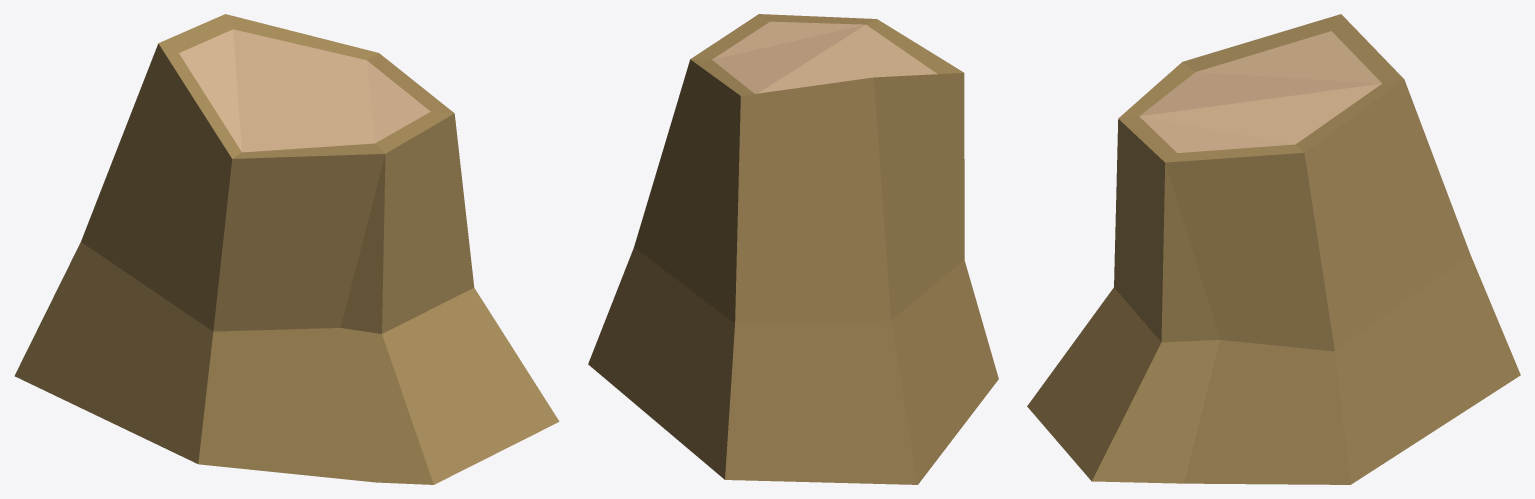
The model's file is Oak_Stump_04.fbx.
The picture shows the model from 3 angles, left to right: view 1: azimuth 30°, elevation 25°; view 2: azimuth 150°, elevation 25°; view 3: azimuth 270°, elevation 25°; orthographic projection. The views are drawn at different scales.
Visible parts, largest first — view 1: Oak_Stump_04; view 2: Oak_Stump_04; view 3: Oak_Stump_04.
Boxes of the visible parts, left/top/right/bottom form: Oak_Stump_04: left=14, top=14, right=559, bottom=484; Oak_Stump_04: left=588, top=14, right=998, bottom=484; Oak_Stump_04: left=1027, top=14, right=1520, bottom=484.
Size of the model in its own units: 96.13 by 86.14 by 114.
